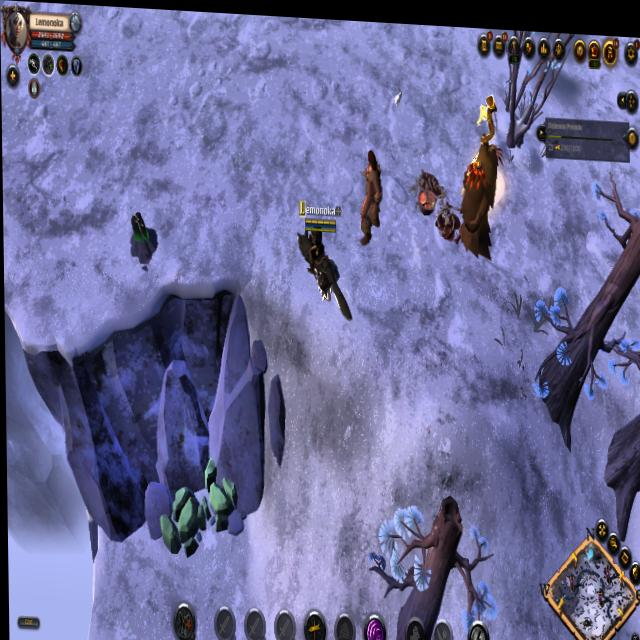ore tier 3: (127, 210, 159, 267)
rock tier 3: (157, 477, 207, 559), (200, 451, 237, 536)
